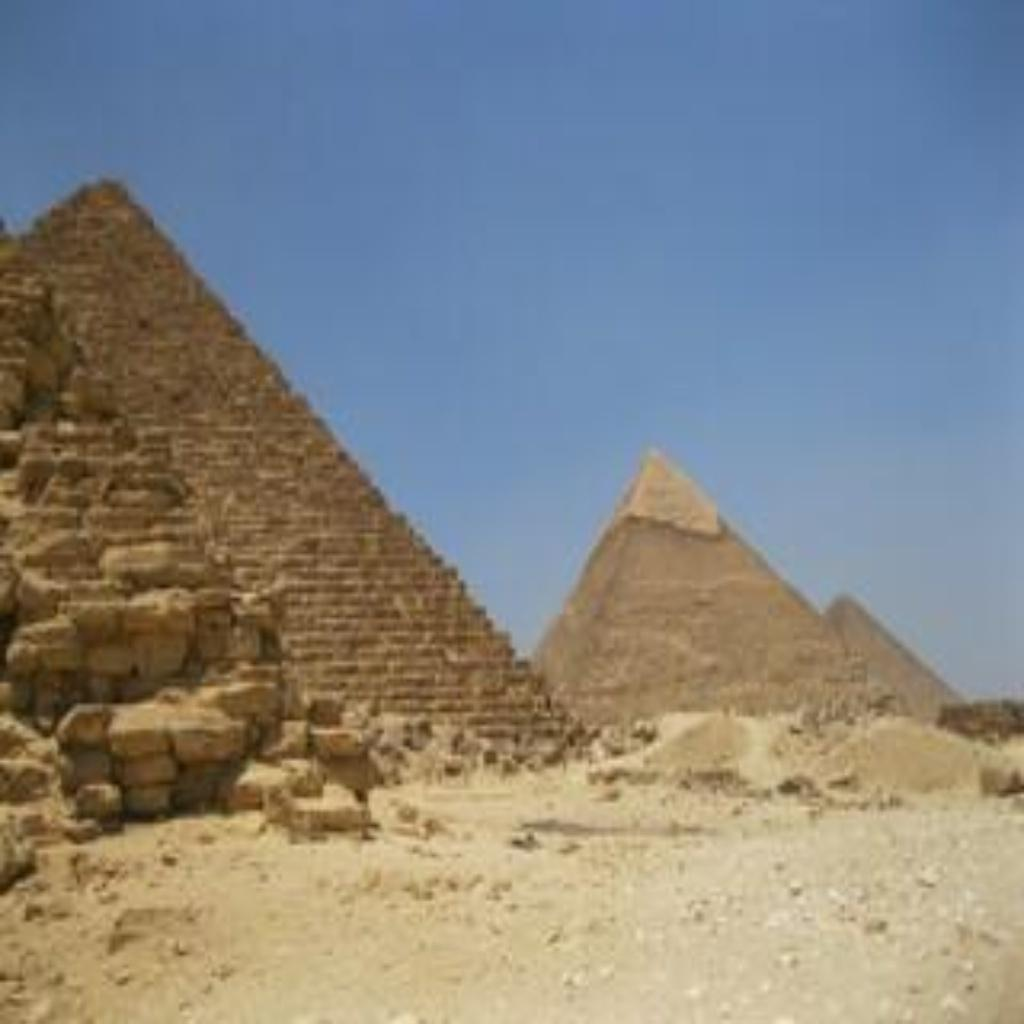Great Pyramids of Giza: (0, 166, 966, 814)
